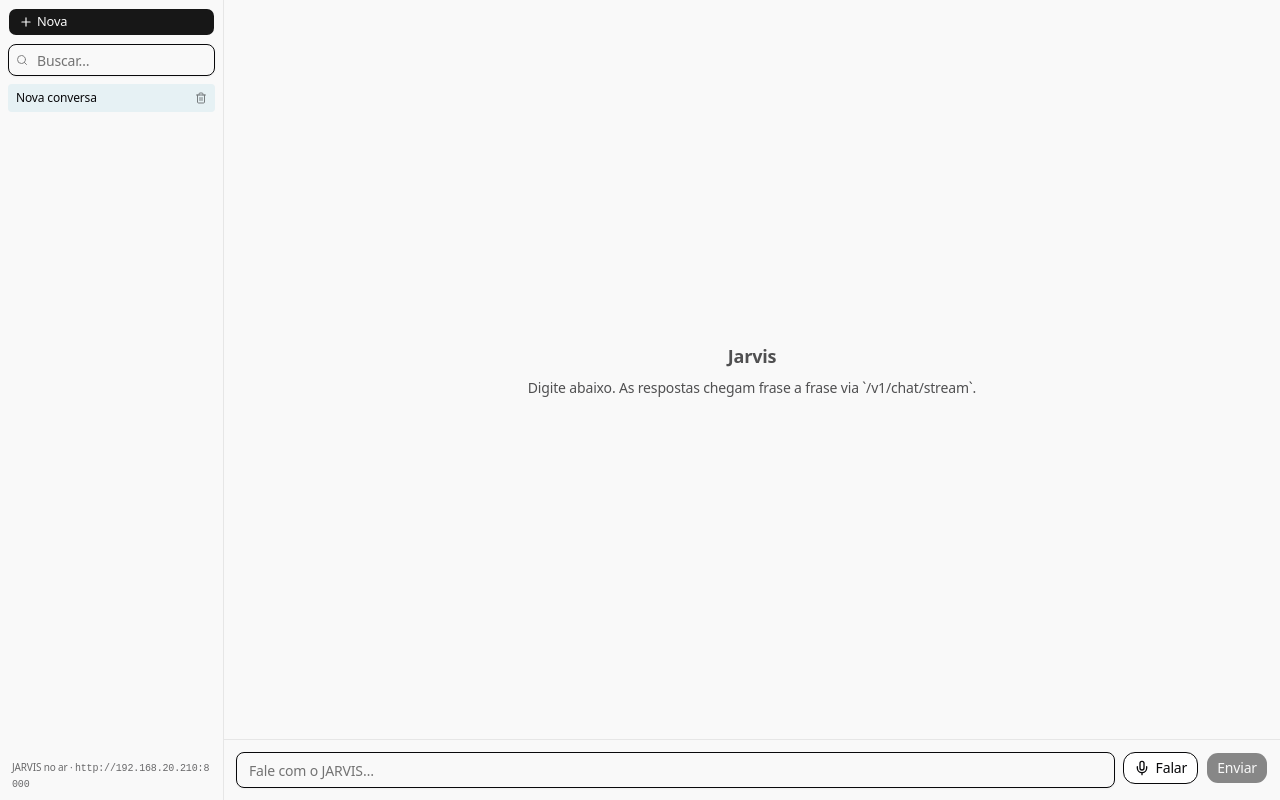
Test: ChatPage › mostra as frases parciais enquanto o stream segue
The width and height of the screenshot is (1280, 800).
In the field with placeholder "Fale com o JARVIS…": {"x": 675, "y": 770} [236,752,1115,788], type "oi"
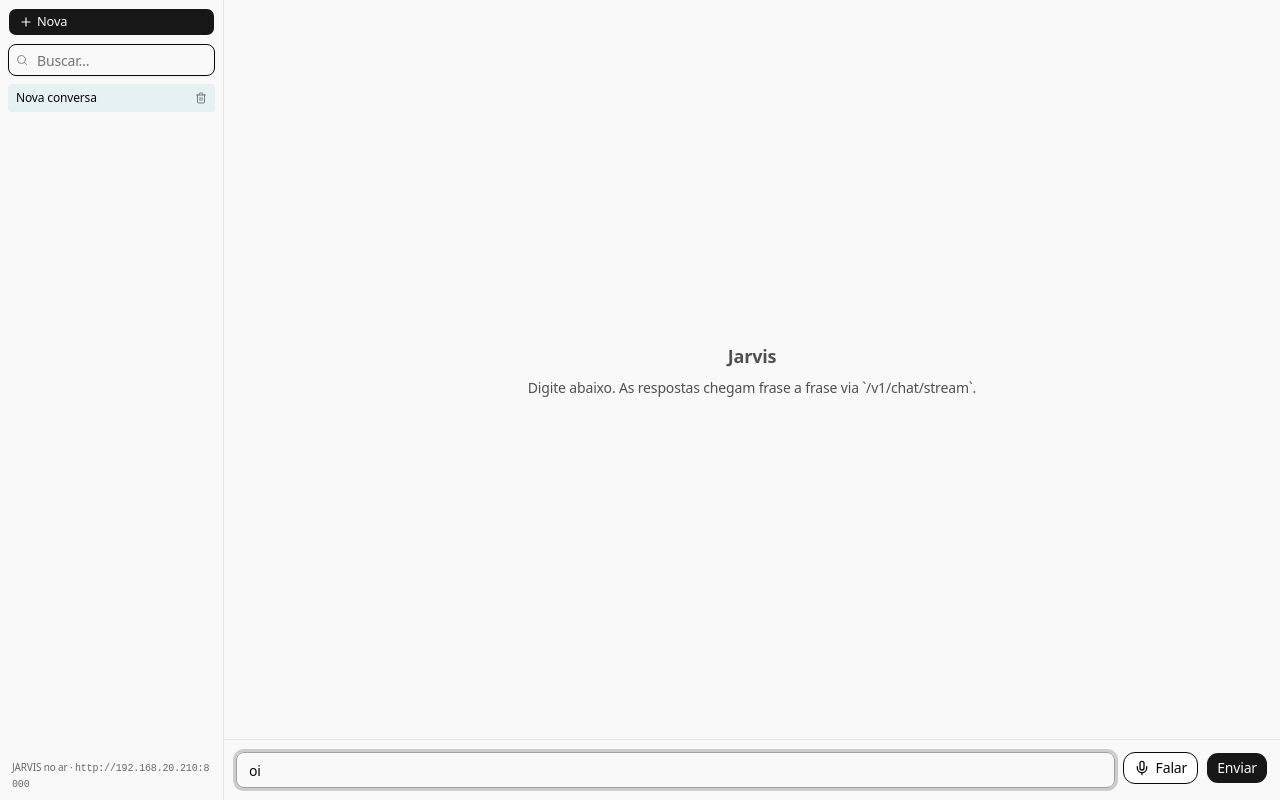
Click the button "Enviar": {"x": 1237, "y": 768} [1206,752,1268,784]
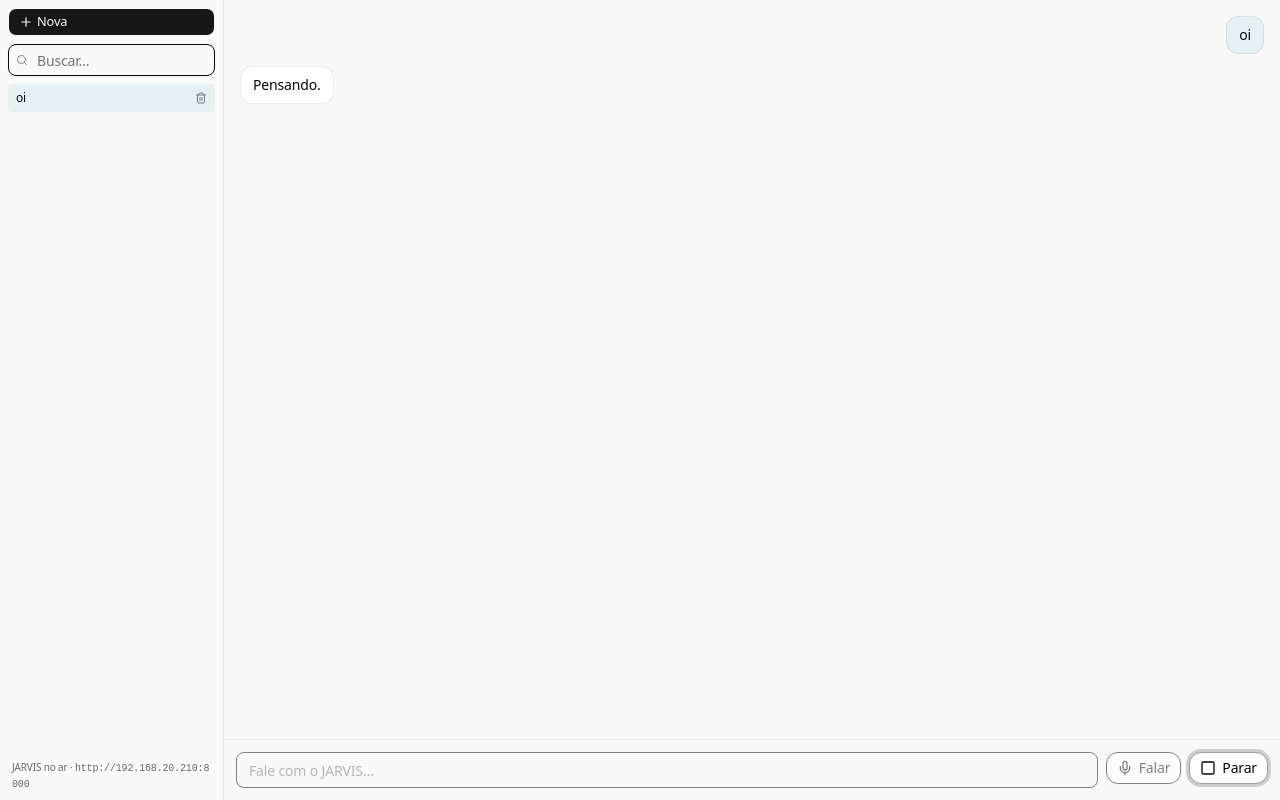
Expected: the text "Pensando." is shown, [240,66,334,104]
Click the button "Parar": {"x": 1229, "y": 768} [1189,752,1268,784]
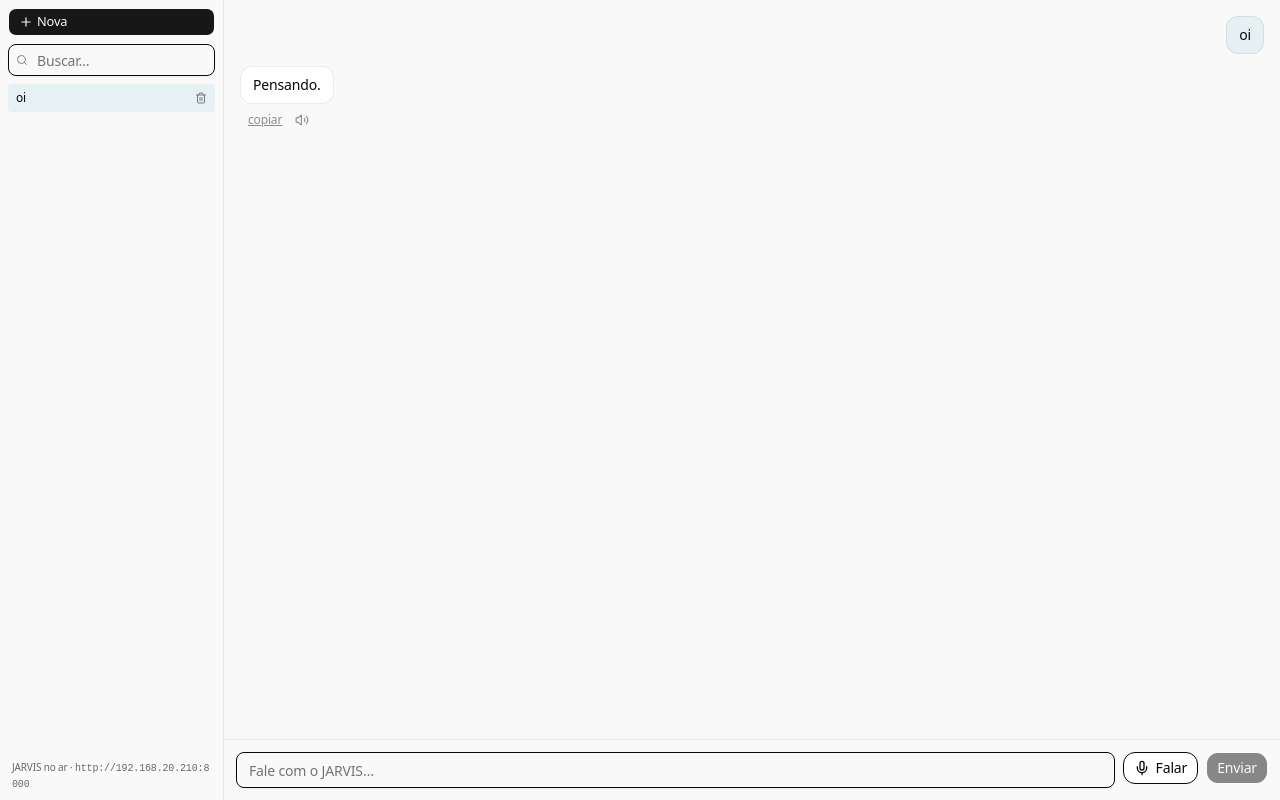
Expected: the text "Pensando." is shown, [240,66,334,104]
Expected: the button "Enviar" is shown, [1206,752,1268,784]
